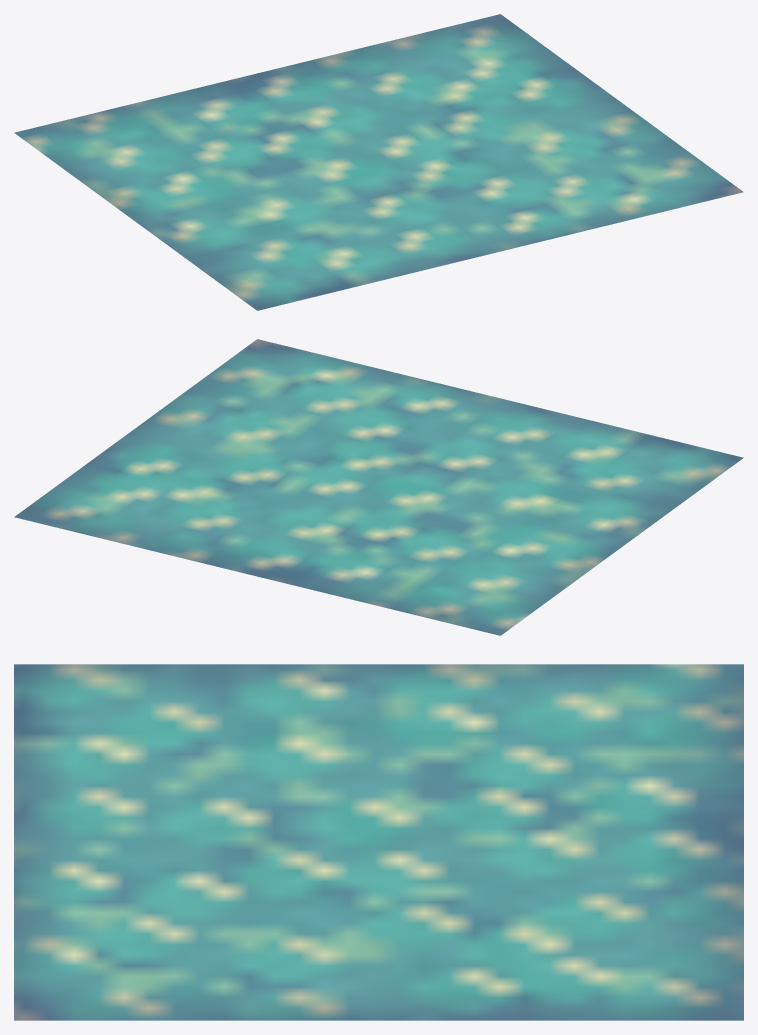
File: Peas_Uncooked.fbx
3 renders of one model, top to bottom at view 1: azimuth 30°, elevation 25°; view 2: azimuth 150°, elevation 25°; view 3: azimuth 270°, elevation 25°, orthographic. The views are drawn at different scales.
Visible parts, largest first — view 1: Peas_Uncooked; view 2: Peas_Uncooked; view 3: Peas_Uncooked.
Boxes of the visible parts, bbox=[...] form: Peas_Uncooked: bbox=[14, 14, 743, 310]; Peas_Uncooked: bbox=[14, 339, 743, 635]; Peas_Uncooked: bbox=[14, 664, 743, 1020].
Bounding box in the file's own units: 38.21 × 0 × 33.1.
